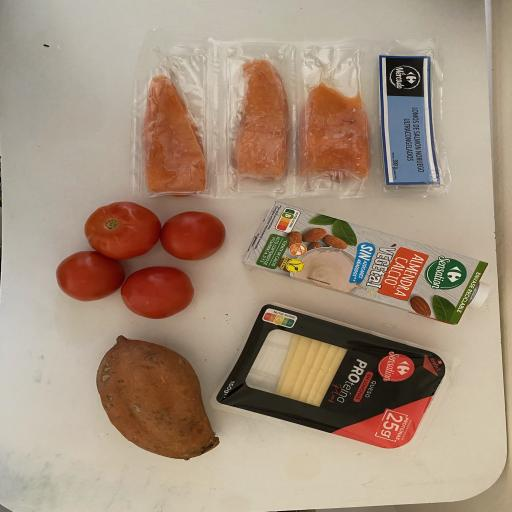cheese: (211, 298, 461, 455)
milk_almond: (238, 196, 496, 331)
salmon: (138, 69, 214, 200), (228, 56, 295, 186), (296, 80, 374, 184)
sweet_potato: (92, 332, 223, 464)
tomato: (82, 198, 163, 261), (121, 263, 202, 322), (56, 249, 128, 304), (158, 208, 230, 262)
